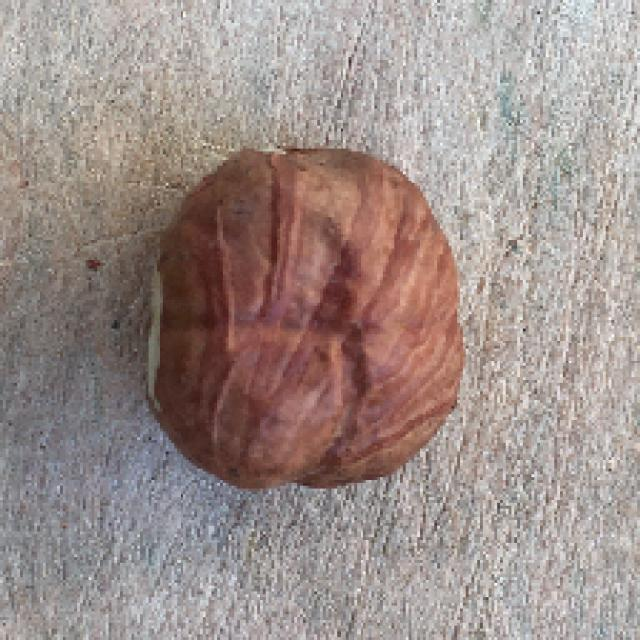hazelnut: (152, 133, 474, 489)
